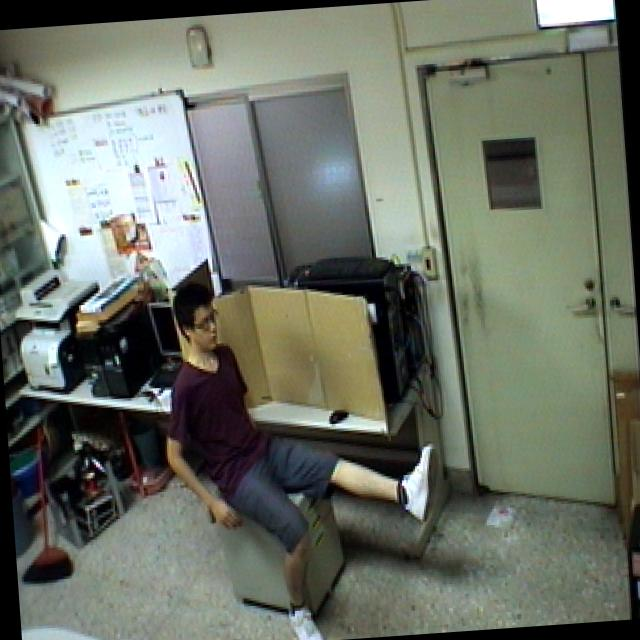sit: (149, 261, 454, 640)
